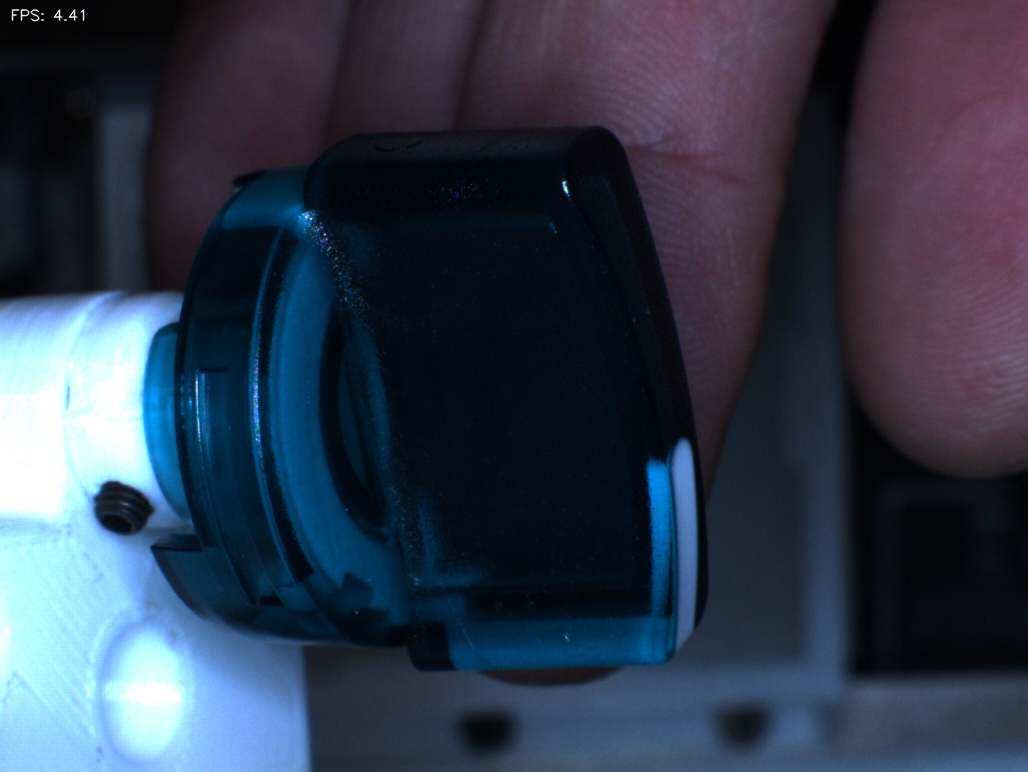Givrage: (545, 599, 586, 660)
